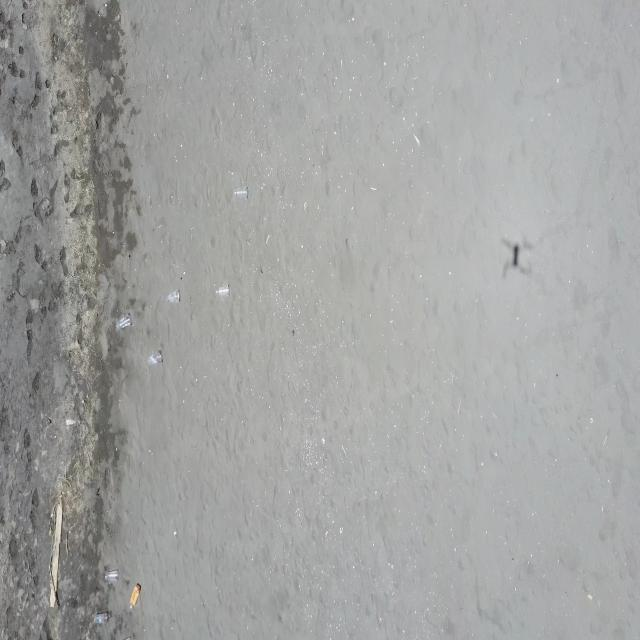plastic-bottle: (128, 584, 142, 610)
takeaway-cup: (116, 313, 132, 331), (149, 348, 163, 365), (95, 611, 109, 626), (166, 289, 180, 304), (105, 568, 120, 581), (233, 186, 247, 199), (216, 284, 230, 296)
